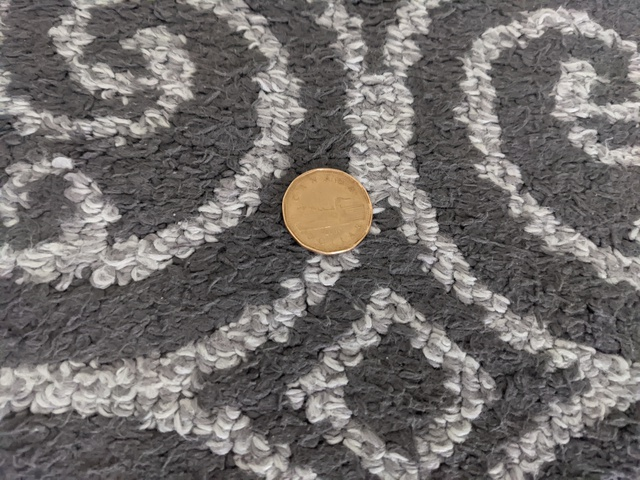loonie: (274, 166, 380, 264)
